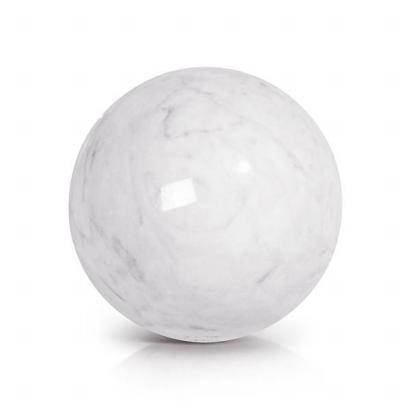Metamorphic_Marble: (52, 51, 348, 346)
